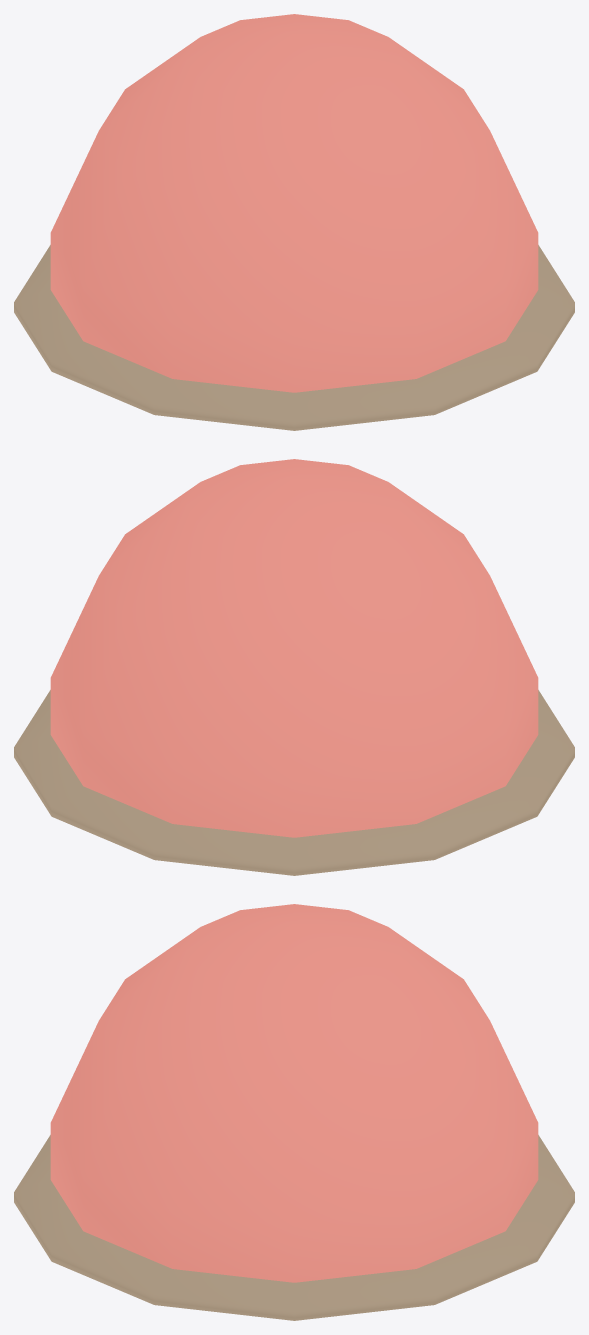
Rendered from Blender_TeeMarker_1.glb.
3 views of the same model, one above another, from view 1: azimuth 30°, elevation 25°; view 2: azimuth 150°, elevation 25°; view 3: azimuth 270°, elevation 25° (orthographic).
Parts seen in each view (by area): view 1: Blender_TeeMarker_1; view 2: Blender_TeeMarker_1; view 3: Blender_TeeMarker_1.
Boxes of the visible parts, x1=… form: Blender_TeeMarker_1: x1=14, y1=14, x2=574, y2=430; Blender_TeeMarker_1: x1=14, y1=459, x2=574, y2=875; Blender_TeeMarker_1: x1=14, y1=904, x2=574, y2=1320.
Size of the model in its own units: 0.1794 by 0.098 by 0.1794.
